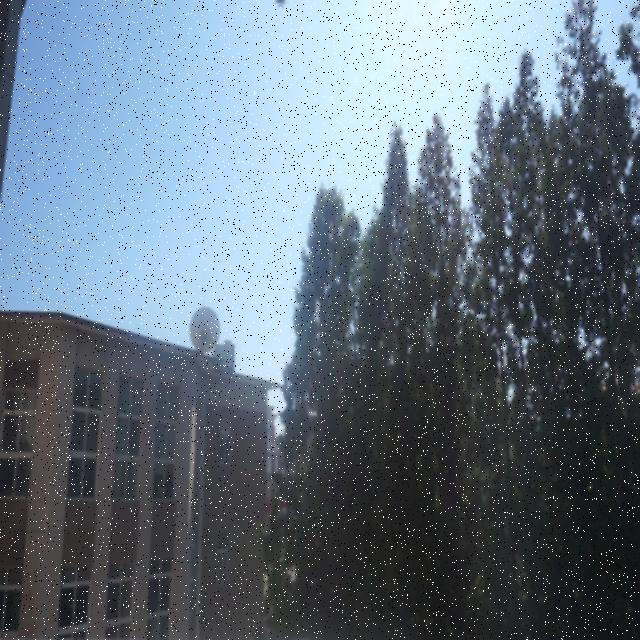UAV: (272, 0, 287, 9)
